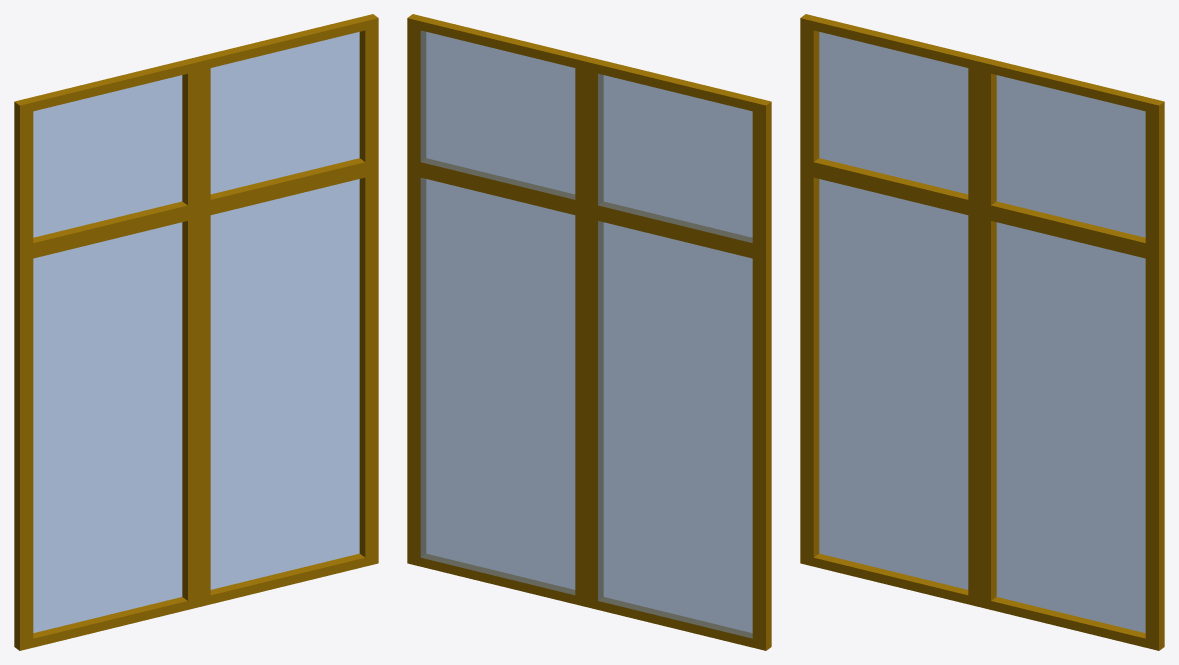
File: window7.dae
The picture shows the model from 3 angles, left to right: view 1: azimuth 30°, elevation 25°; view 2: azimuth 150°, elevation 25°; view 3: azimuth 330°, elevation 25°; orthographic projection.
Parts seen in each view (by area): view 1: SketchUp.009; view 2: SketchUp.009; view 3: SketchUp.009.
Part boxes in pixels (<box>): SketchUp.009: <box>14,14,378,650</box>; SketchUp.009: <box>407,14,771,650</box>; SketchUp.009: <box>800,14,1164,650</box>.
Size of the model in its own units: 0.6956 by 0.0187 by 1.01.
